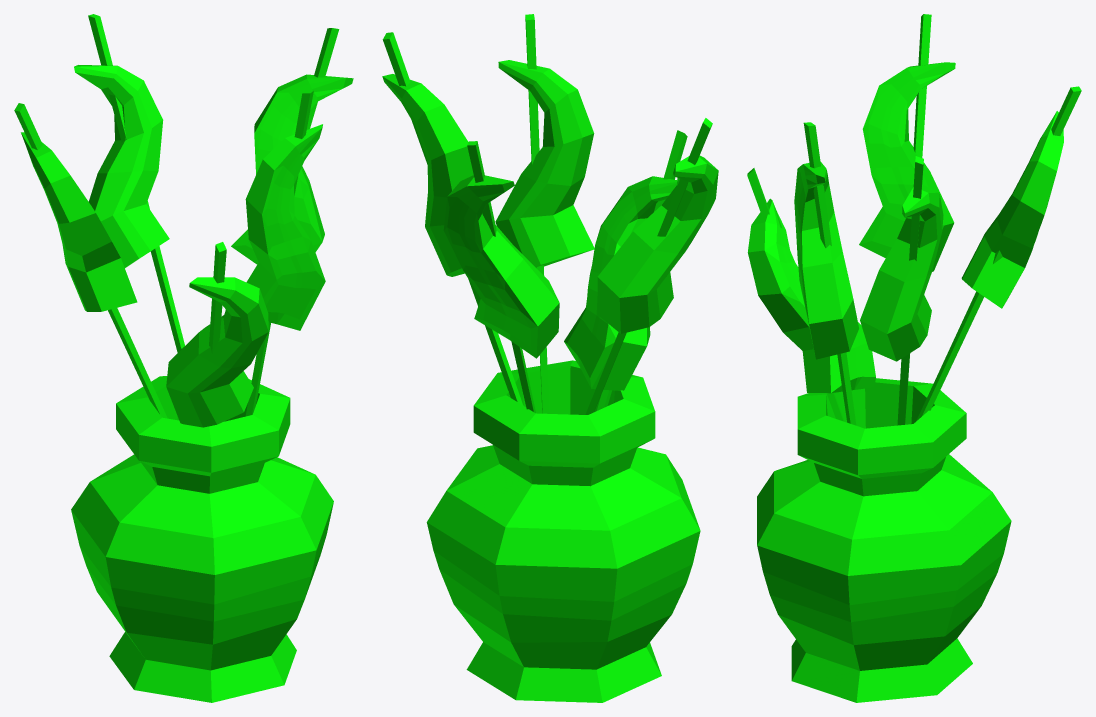
The model's file is SM_Jar_Tentacles.fbx.
The picture shows the model from 3 angles, left to right: view 1: azimuth 30°, elevation 25°; view 2: azimuth 150°, elevation 25°; view 3: azimuth 270°, elevation 25°; orthographic projection. The views are drawn at different scales.
Visible parts, largest first — view 1: jar-tentacles; view 2: jar-tentacles; view 3: jar-tentacles.
Part boxes in pixels (x1,y1,x2,y2): jar-tentacles: (14,14,353,702); jar-tentacles: (382,14,718,702); jar-tentacles: (747,14,1081,702).
Size of the model in its own units: 0.4003 by 0.6836 by 0.3583.
